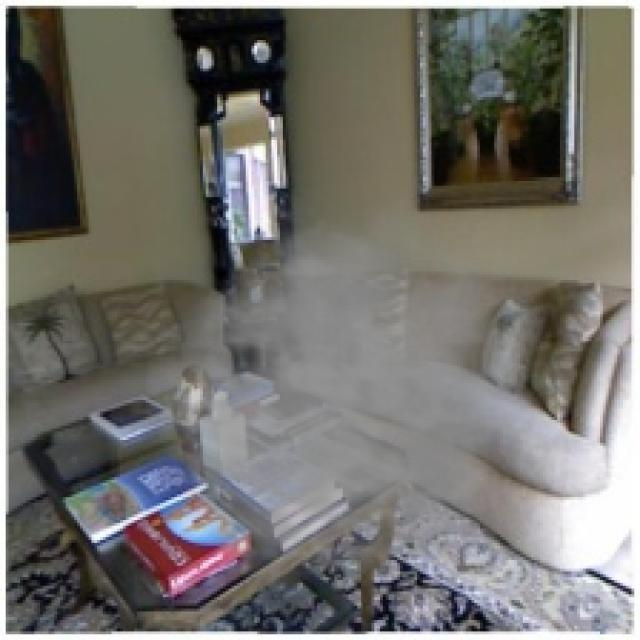Smoke: (143, 188, 566, 592)
